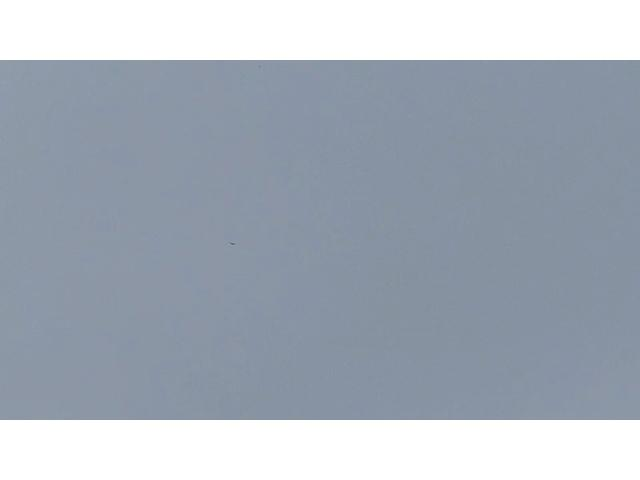Anti-Drone: (227, 241, 237, 247)
